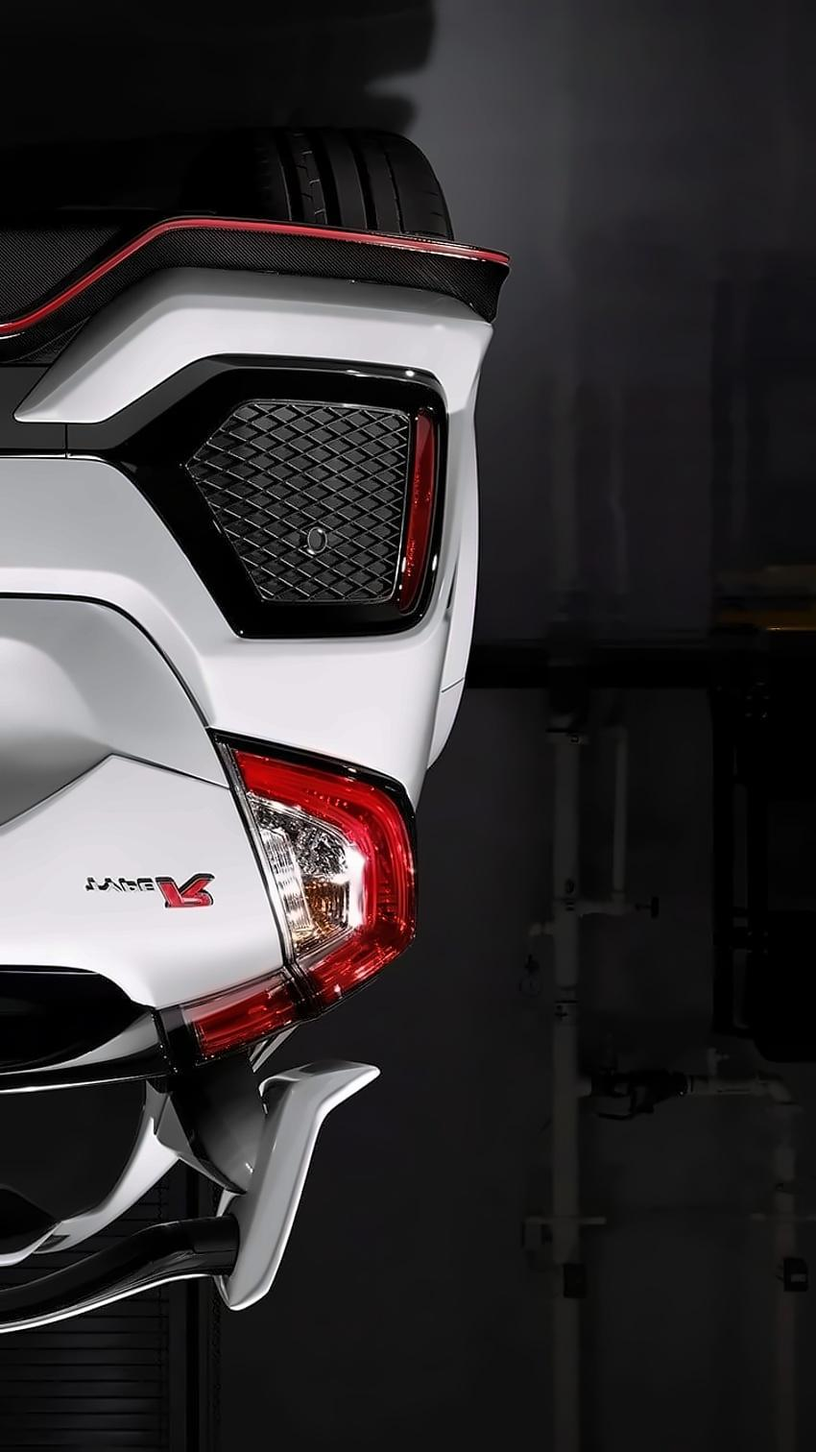Rear light - -L-: (166, 723, 427, 1081)
